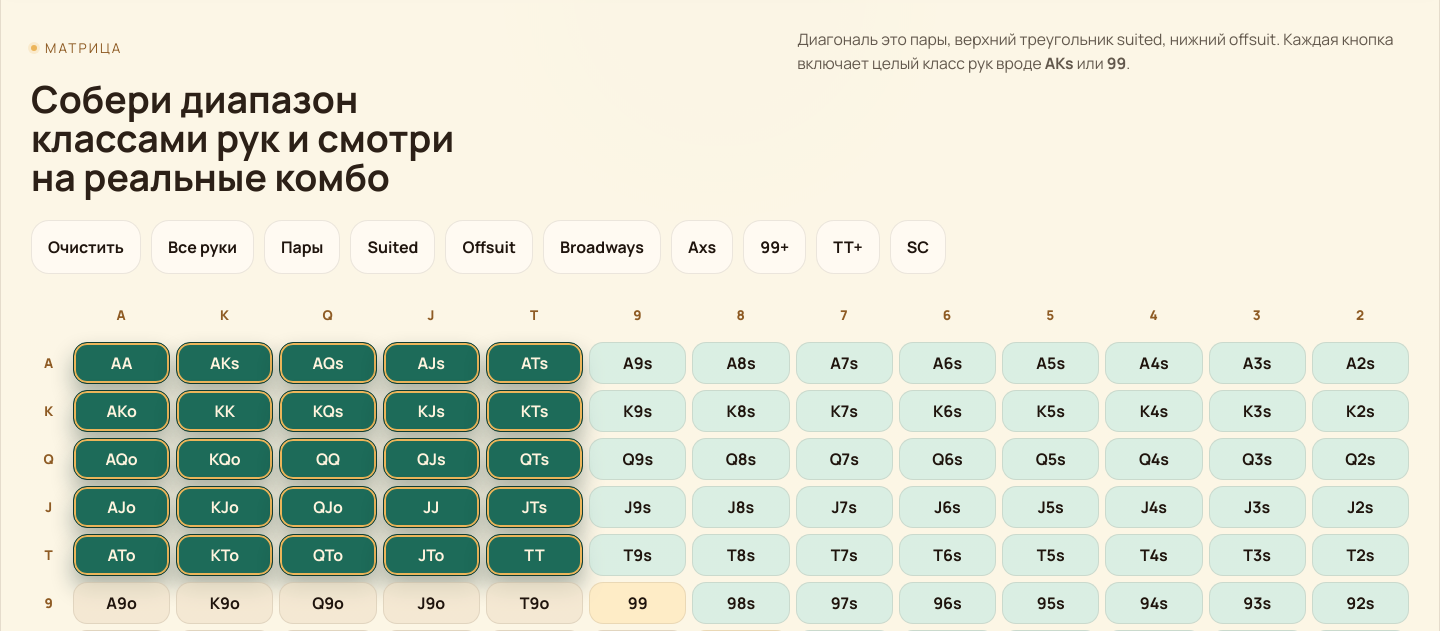
CombinatoricsMode › lets the user apply presets and enables postflop analysis once a flop is set
(page scrolled)
Click the button "Очистить" at {"x": 86, "y": 248}, box [31,220,141,274]
(page scrolled)
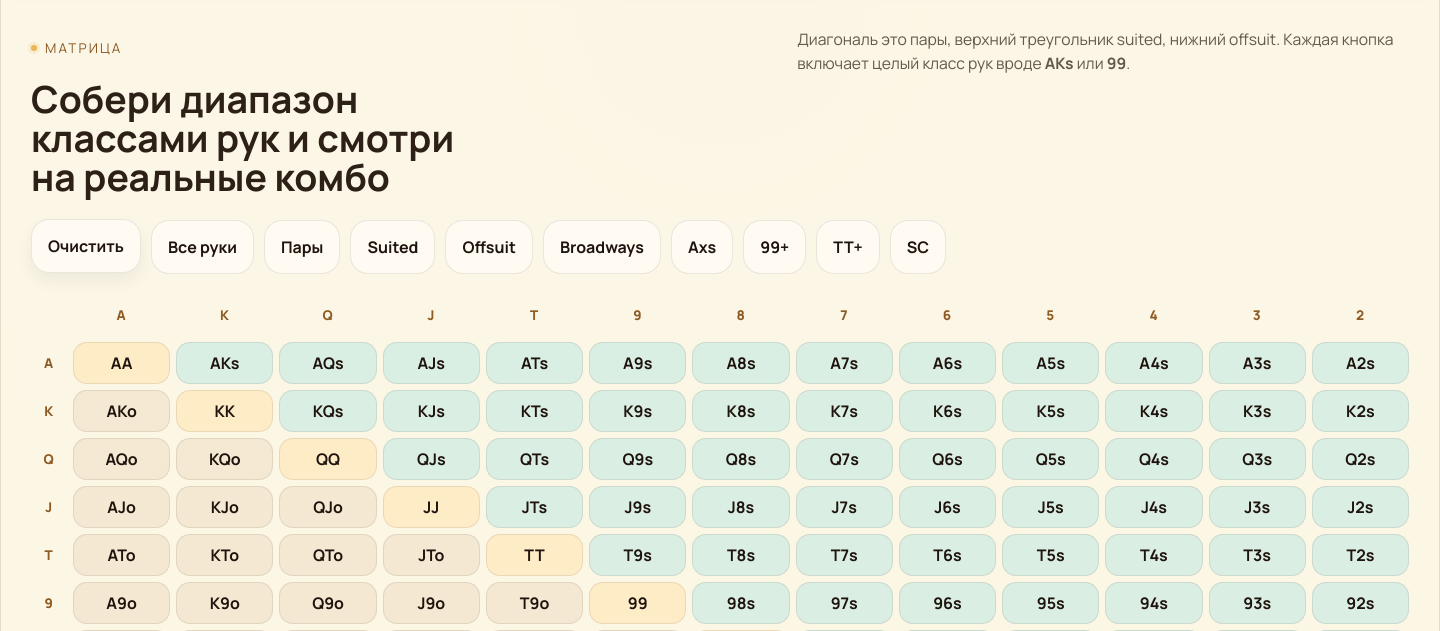
Click the button "TT+" at {"x": 848, "y": 248}, box [816,220,880,274]
(page scrolled)
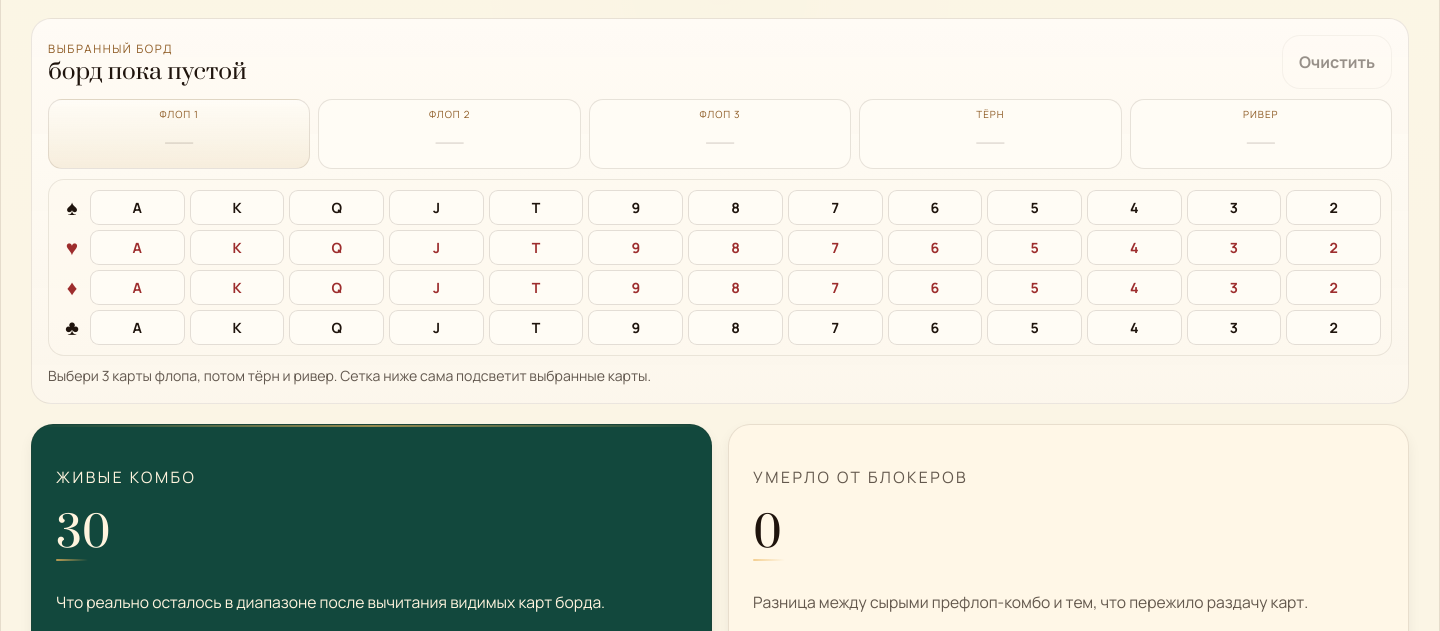
Click the button named "A♥" at {"x": 137, "y": 247}, box [90,230,185,265]
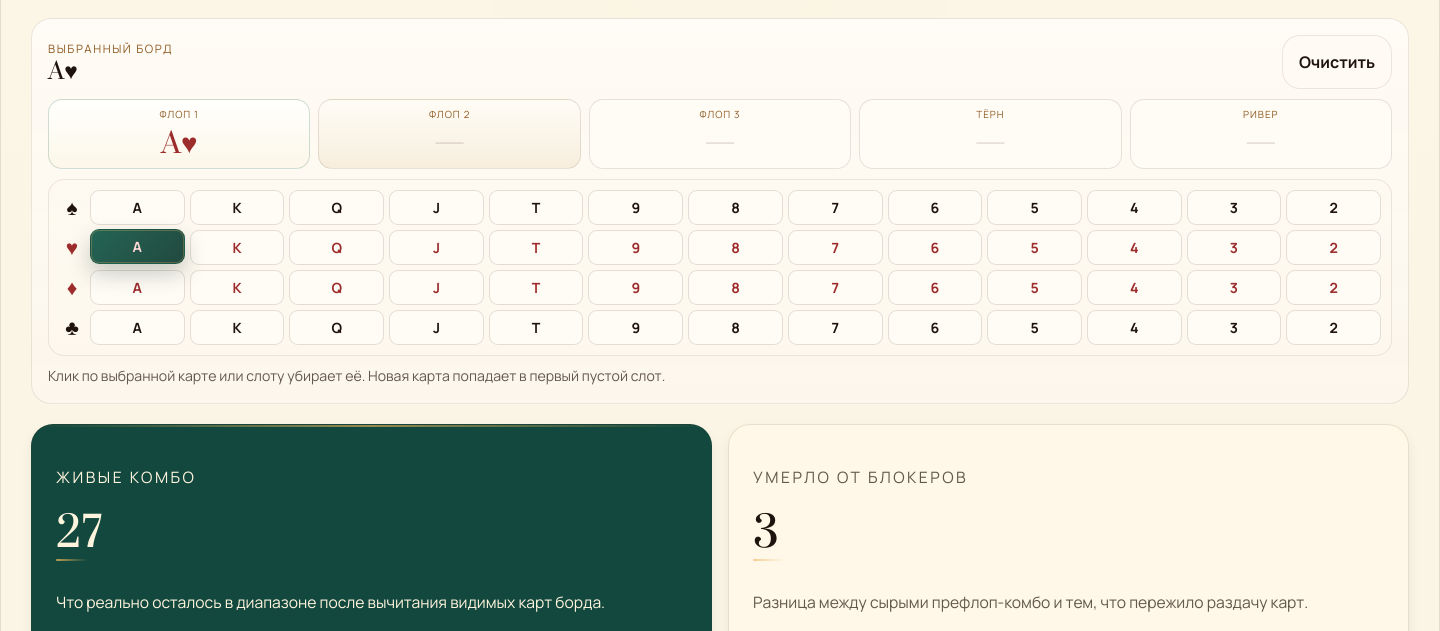
Click the button named "K♦" at {"x": 237, "y": 287}, box [190,270,284,305]
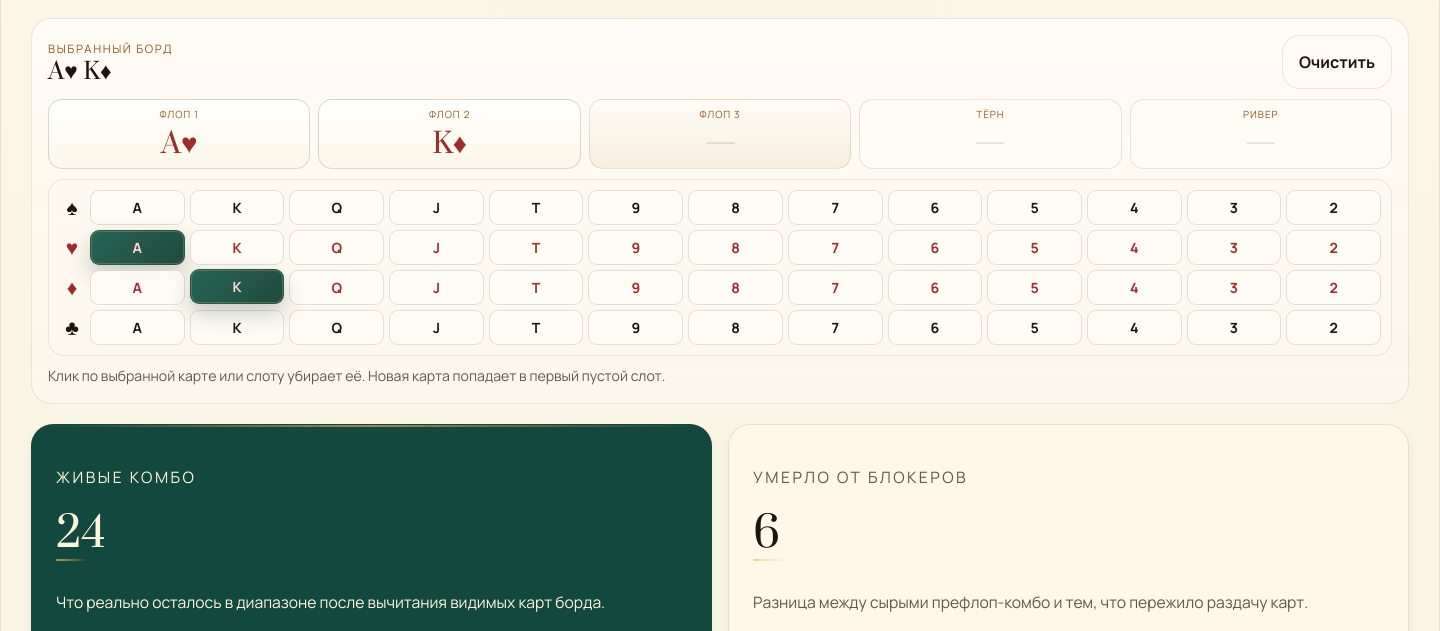
Click the button named "7♣" at {"x": 835, "y": 328}, box [788,310,882,345]
(page scrolled)
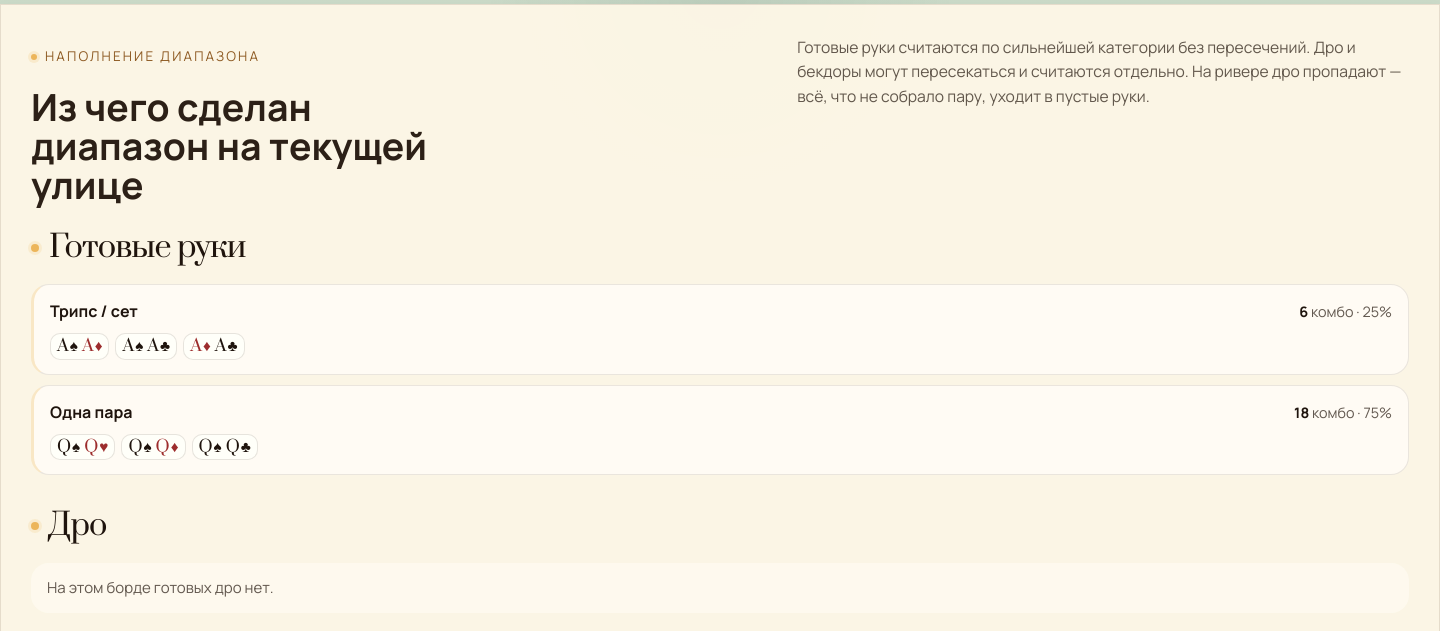
Expected: the heading "Готовые руки" is shown, [49,227,246,268]
